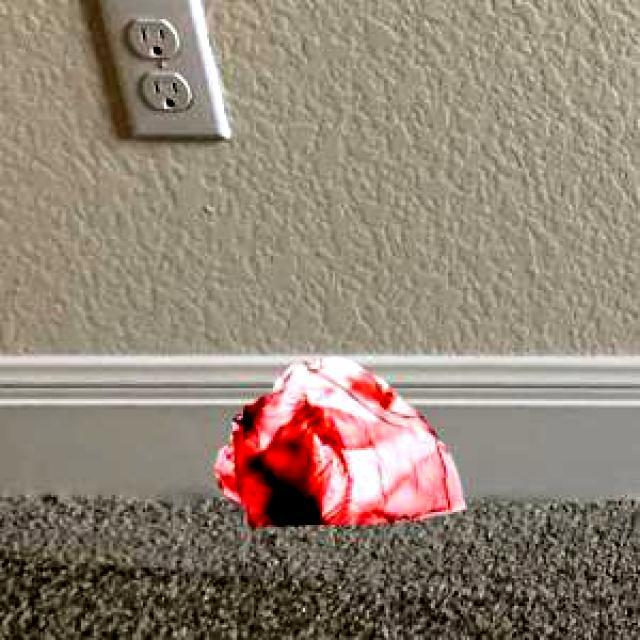Plastic_Bag: (212, 356, 464, 522)
